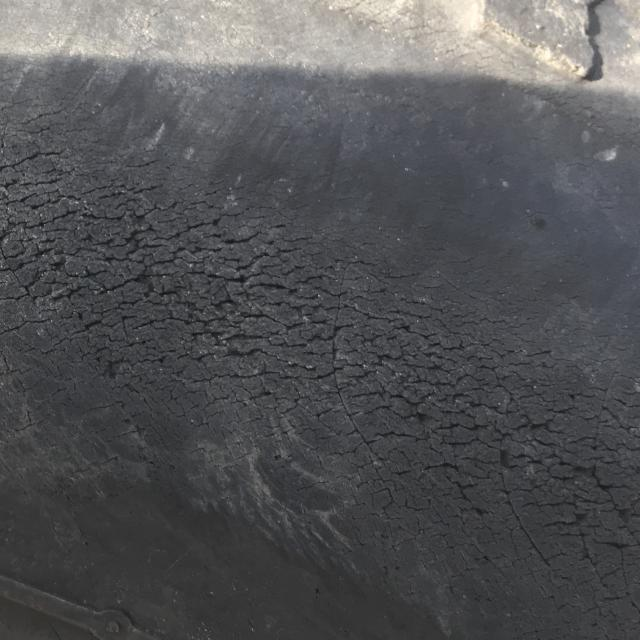Cracks: (0, 78, 640, 622)
